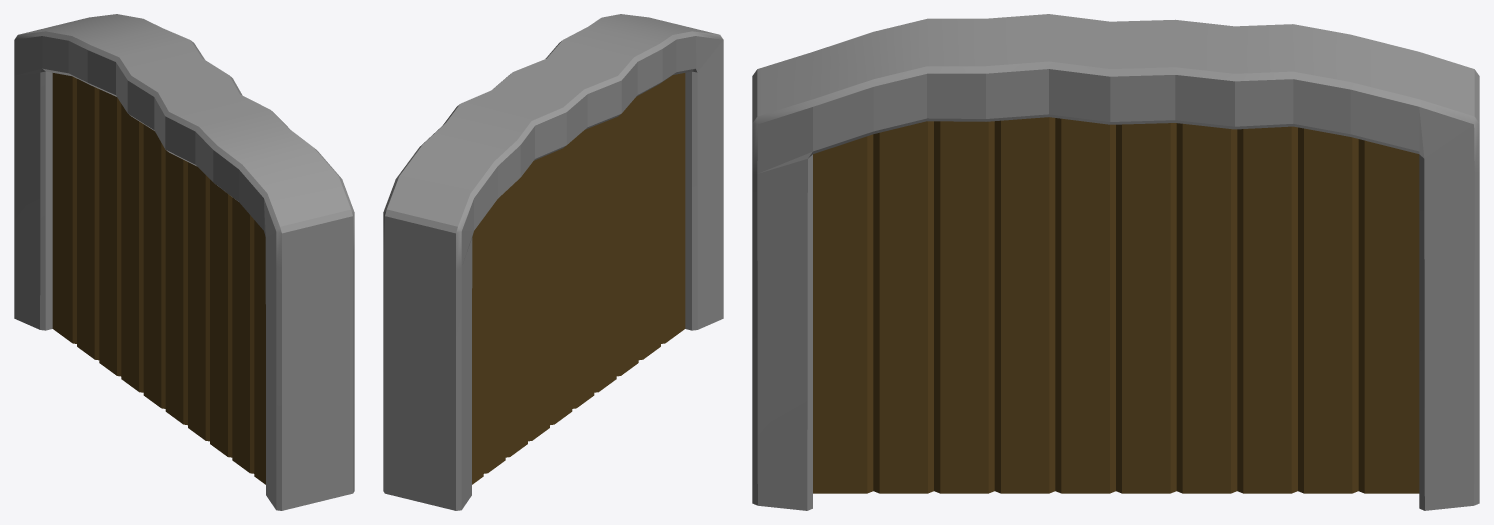
The model's file is door.FBX.
The picture shows the model from 3 angles, left to right: view 1: azimuth 30°, elevation 25°; view 2: azimuth 150°, elevation 25°; view 3: azimuth 270°, elevation 25°; orthographic projection. The views are drawn at different scales.
Visible parts, largest first — view 1: DoorStone, Door; view 2: DoorStone, Door; view 3: Door, DoorStone.
Part boxes in pixels (bbox=[...]): DoorStone: bbox=[14, 14, 354, 510]; Door: bbox=[52, 73, 265, 484]; DoorStone: bbox=[383, 14, 723, 510]; Door: bbox=[472, 73, 685, 484]; Door: bbox=[813, 117, 1419, 493]; DoorStone: bbox=[752, 14, 1479, 510].
Size of the model in its own units: 25.23 by 120 by 79.87.
